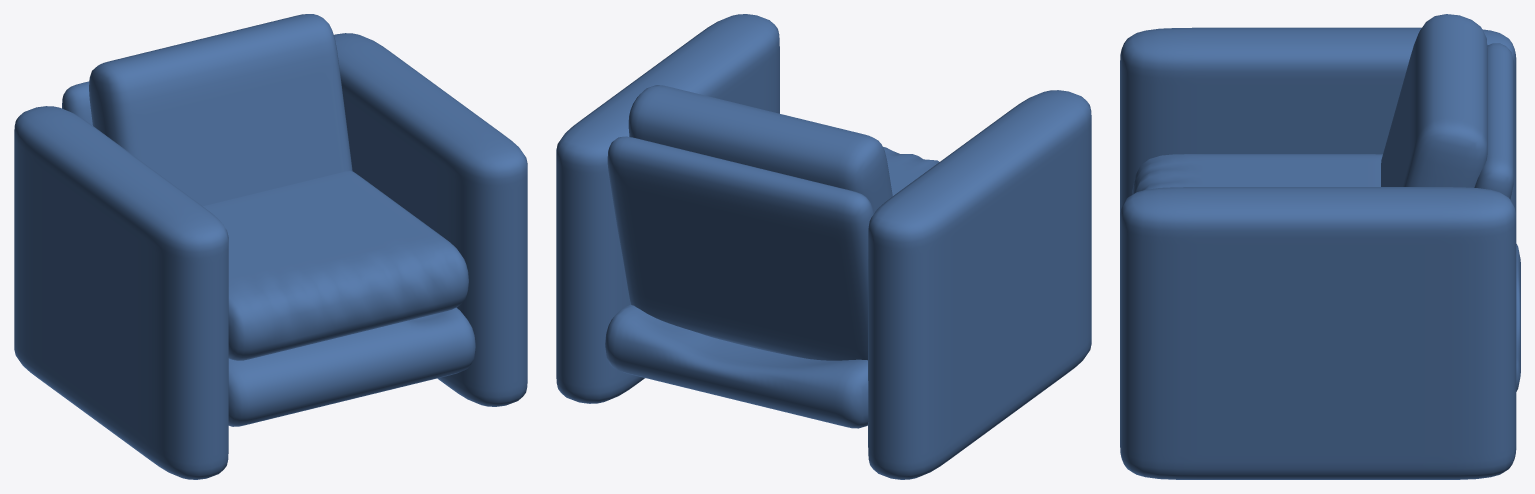
The model's file is BluishSingleCouch.fbx.
3 views of the same model, side by side, from view 1: azimuth 30°, elevation 25°; view 2: azimuth 150°, elevation 25°; view 3: azimuth 270°, elevation 25° (orthographic). The views are drawn at different scales.
Parts seen in each view (by area): view 1: OneCouch.001; view 2: OneCouch.001; view 3: OneCouch.001.
Part boxes in pixels (left/top/right/bottom): OneCouch.001: left=14, top=14, right=527, bottom=479; OneCouch.001: left=556, top=14, right=1091, bottom=479; OneCouch.001: left=1120, top=14, right=1520, bottom=479.
Bounding box in the file's own units: 265 × 209 × 233.
